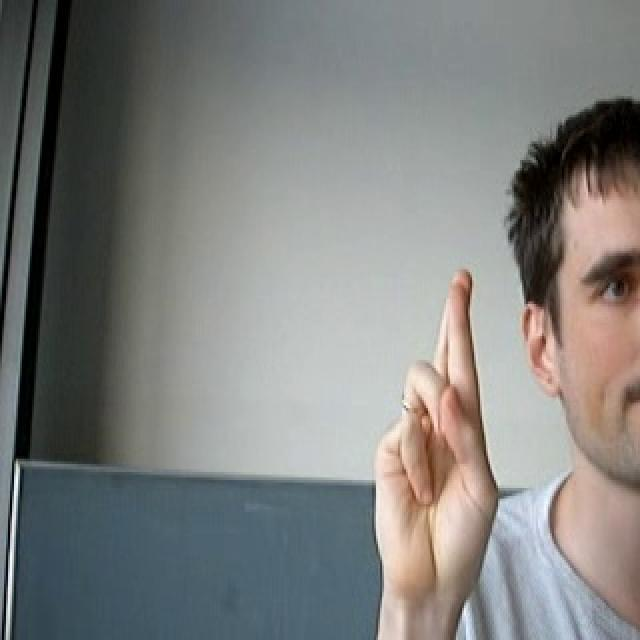R: (331, 259, 528, 603)
